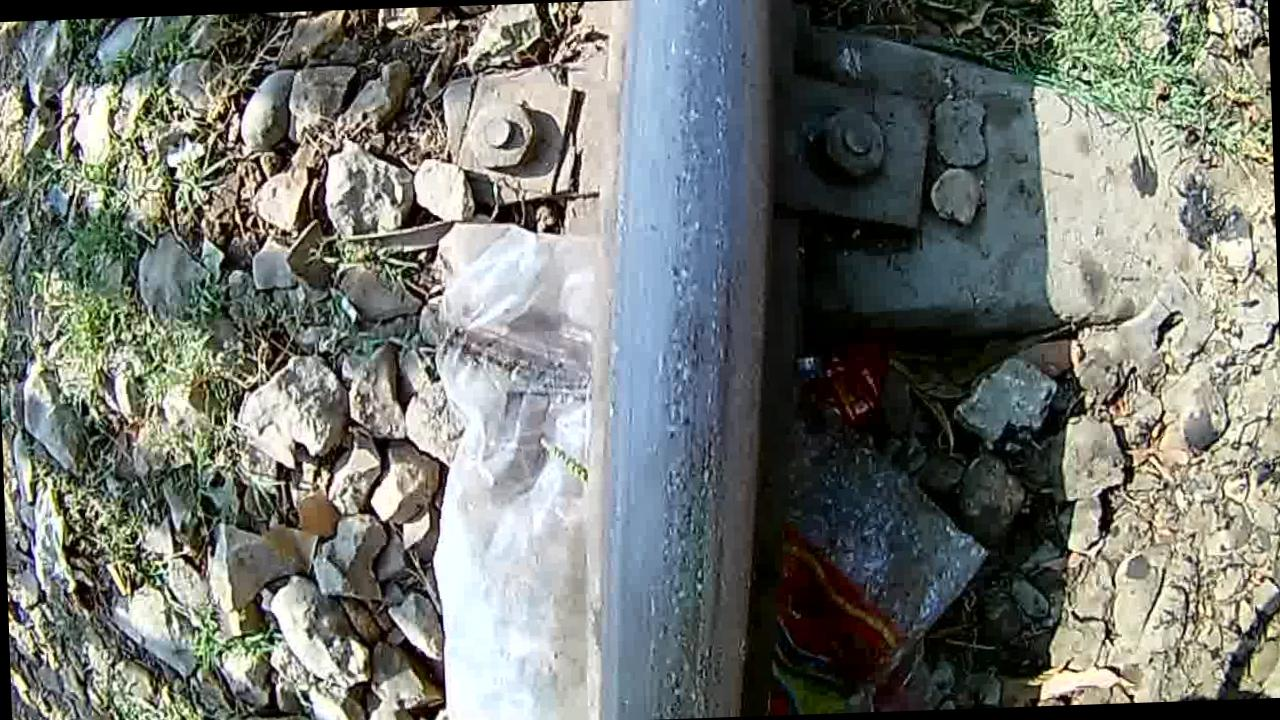clip_missing: (623, 1, 788, 716)
